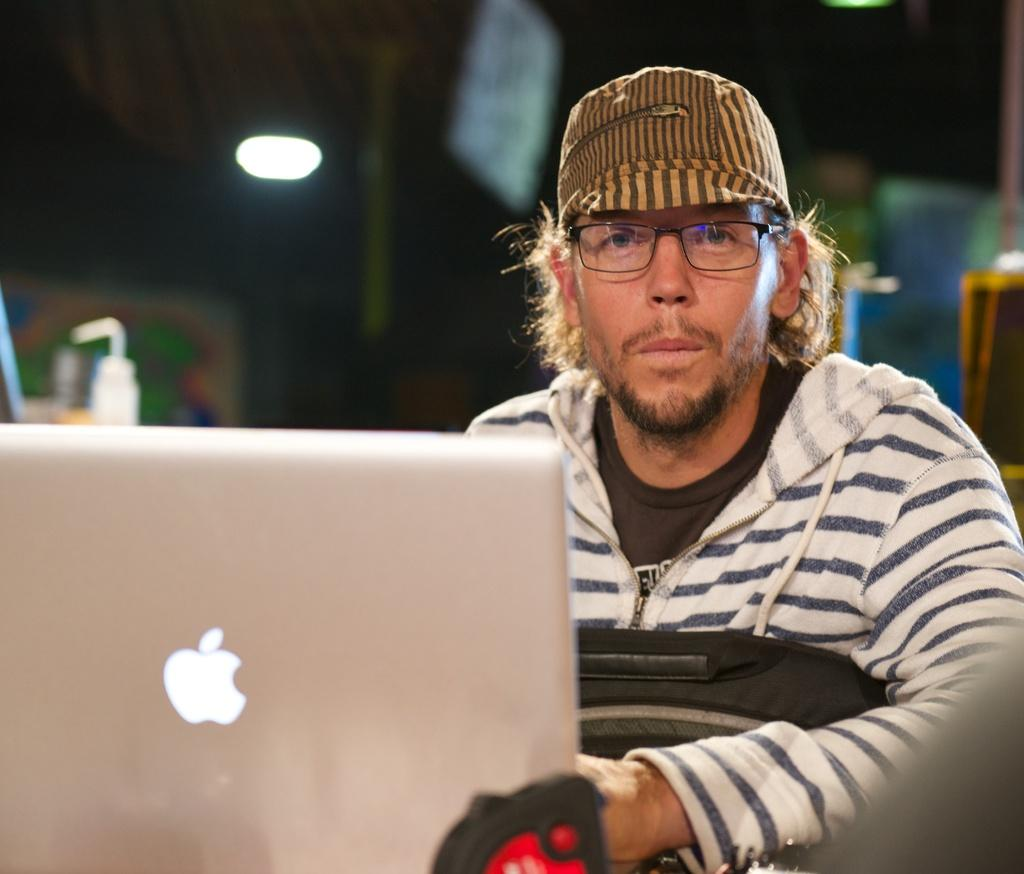Hat: (554, 67, 792, 225)
